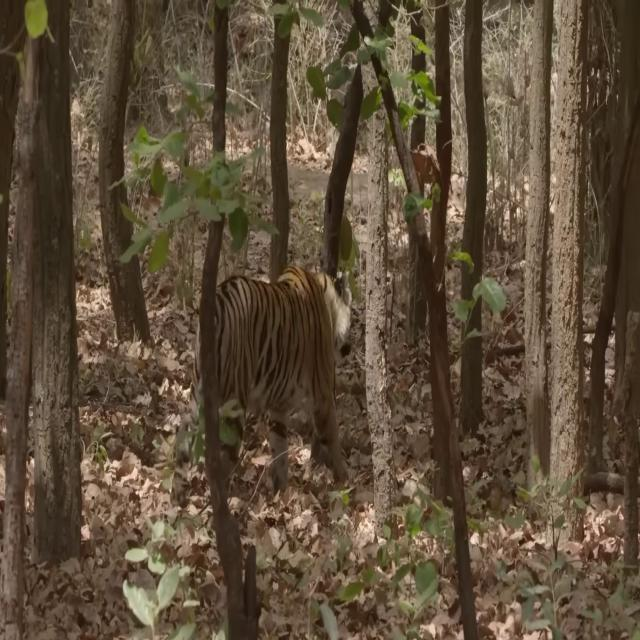tiger: (188, 263, 353, 489)
